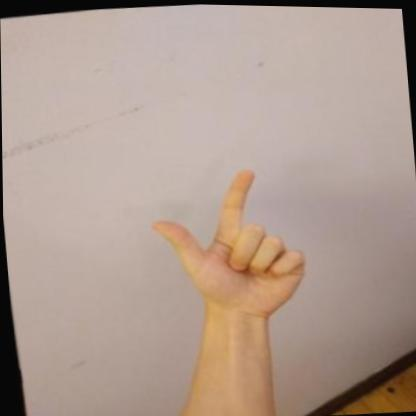L: (137, 154, 315, 332)
